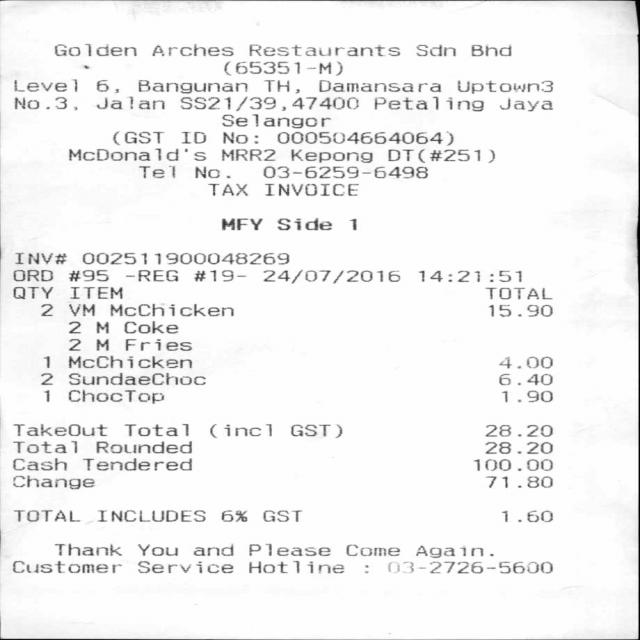text: (180, 96, 358, 110), (81, 252, 288, 264), (276, 131, 452, 145), (261, 165, 425, 178), (262, 269, 400, 283), (388, 561, 552, 572), (248, 44, 399, 55), (223, 61, 341, 75), (67, 148, 203, 160), (67, 372, 203, 384), (373, 96, 482, 110), (221, 113, 330, 127), (386, 148, 492, 162), (66, 355, 189, 367), (318, 79, 440, 91), (110, 304, 232, 316), (66, 389, 161, 403), (137, 80, 246, 92), (10, 560, 119, 572), (81, 458, 189, 470), (98, 509, 204, 521), (417, 269, 522, 281), (456, 80, 552, 93), (264, 182, 357, 195), (95, 440, 191, 452), (136, 560, 232, 572), (290, 148, 372, 162), (248, 560, 342, 572), (54, 43, 135, 56), (152, 43, 232, 56), (13, 475, 93, 488), (12, 424, 106, 435), (248, 543, 329, 555), (414, 545, 492, 557), (95, 96, 163, 109), (472, 459, 552, 470), (208, 423, 270, 437), (121, 423, 186, 436), (498, 96, 553, 111), (484, 287, 552, 299), (12, 78, 74, 91), (12, 96, 74, 109), (485, 424, 552, 436), (485, 475, 552, 487), (10, 440, 76, 452), (12, 509, 78, 521), (54, 543, 120, 555), (487, 304, 551, 316), (485, 442, 552, 453), (124, 339, 190, 350), (112, 131, 163, 144), (290, 424, 341, 437), (276, 217, 330, 229), (12, 458, 66, 470), (124, 320, 177, 332), (125, 269, 177, 281), (501, 390, 552, 402), (501, 509, 552, 521), (220, 149, 274, 160), (498, 356, 552, 367), (13, 252, 65, 263), (69, 287, 121, 298), (346, 544, 398, 555), (498, 374, 552, 384), (194, 270, 245, 280), (208, 182, 246, 195), (11, 269, 51, 281), (11, 286, 51, 298), (261, 509, 300, 521), (194, 543, 232, 555), (219, 218, 260, 229), (469, 44, 509, 55), (137, 544, 177, 555), (262, 80, 298, 92), (221, 131, 257, 143), (138, 165, 174, 177), (416, 44, 454, 55), (67, 270, 107, 280), (194, 166, 229, 177), (220, 509, 245, 521), (66, 304, 92, 315), (96, 80, 118, 92), (179, 131, 203, 142), (40, 372, 53, 385), (68, 338, 80, 350), (68, 321, 80, 332), (40, 304, 51, 315), (96, 321, 107, 332), (96, 339, 107, 350), (42, 355, 49, 368), (348, 218, 355, 230), (43, 389, 50, 401)
